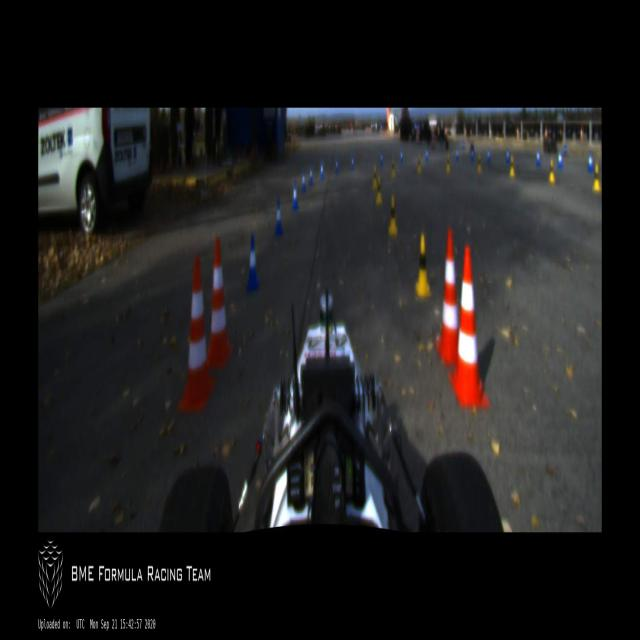blue_cone: (246, 235, 260, 288), (275, 198, 283, 237), (291, 181, 298, 210), (557, 148, 563, 169), (308, 166, 314, 186), (302, 171, 306, 192), (588, 151, 592, 171), (536, 148, 540, 166), (506, 146, 510, 163), (320, 161, 324, 177), (335, 158, 339, 173), (350, 156, 354, 170), (425, 149, 429, 163), (380, 152, 383, 166), (456, 148, 459, 162), (487, 148, 490, 162), (400, 150, 403, 163), (471, 148, 474, 160)
large_orange_cone: (448, 245, 489, 406), (178, 255, 215, 412), (205, 237, 234, 369), (436, 229, 463, 365)
yellow_cone: (415, 234, 431, 300), (387, 195, 398, 236), (371, 163, 379, 194), (375, 176, 383, 207), (593, 163, 601, 191), (548, 157, 555, 185), (509, 152, 515, 177), (390, 157, 396, 177), (476, 155, 482, 174), (416, 155, 422, 173), (446, 152, 450, 172)
